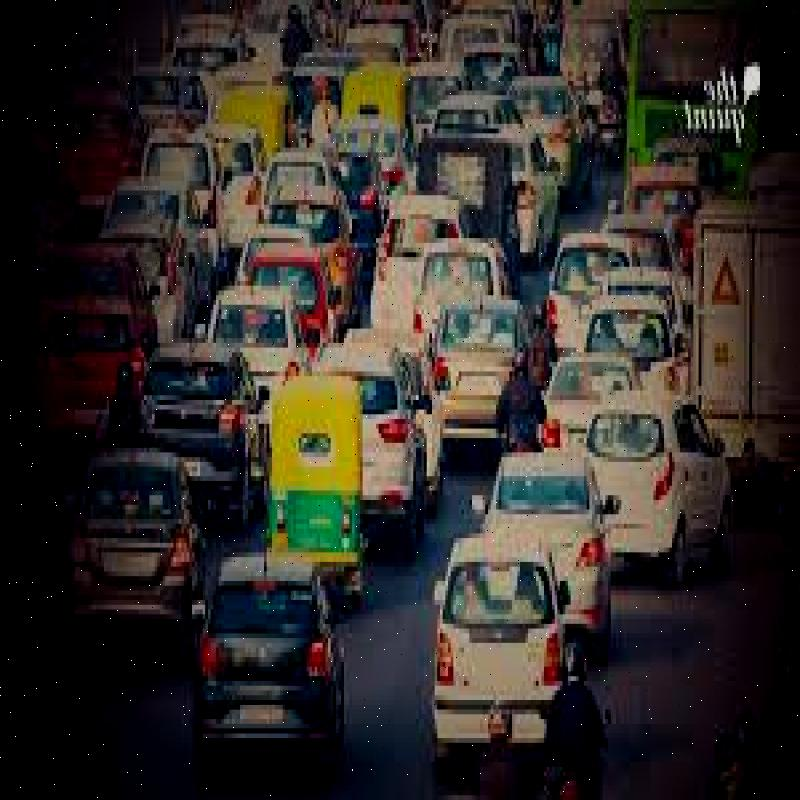auto: (258, 364, 377, 614), (216, 71, 293, 162)
car: (194, 514, 346, 788), (44, 424, 198, 670), (419, 520, 565, 771), (427, 284, 536, 454)
